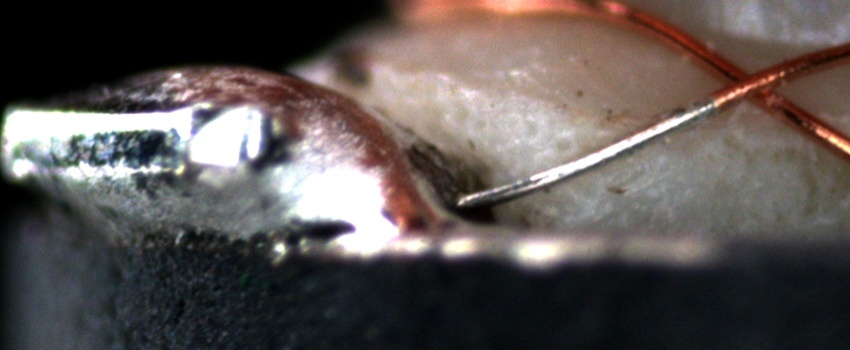CL: (704, 52, 805, 117)
TS: (456, 99, 716, 209)
